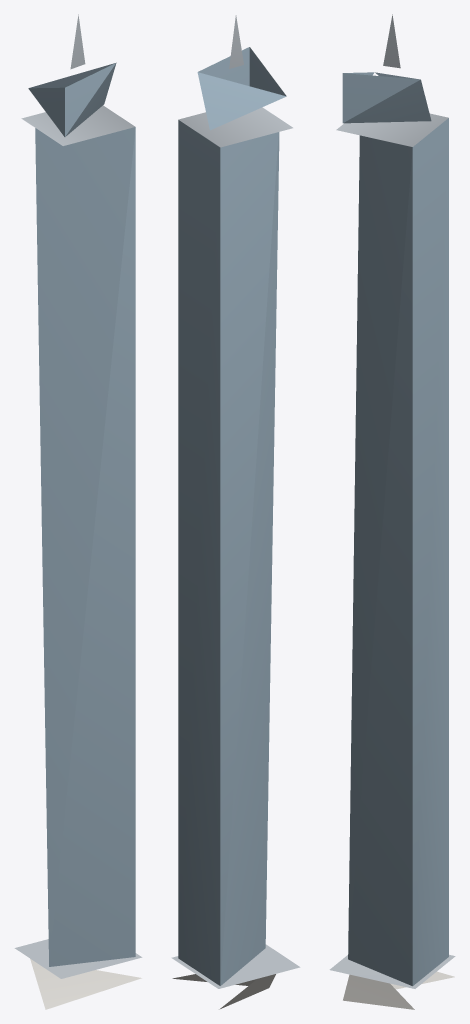
The model's file is tower_07_lod1.glb.
3 views of the same model, side by side, from view 1: azimuth 30°, elevation 25°; view 2: azimuth 210°, elevation 25°; view 3: azimuth 330°, elevation 25° (orthographic).
Visible parts, largest first — view 1: tower_07_lod1; view 2: tower_07_lod1; view 3: tower_07_lod1.
Part boxes in pixels (<box>): tower_07_lod1: <box>14,14,142,1009</box>; tower_07_lod1: <box>171,15,300,1009</box>; tower_07_lod1: <box>329,14,455,1009</box>.
Bounding box in the file's own units: 30.77 × 333 × 27.91.
